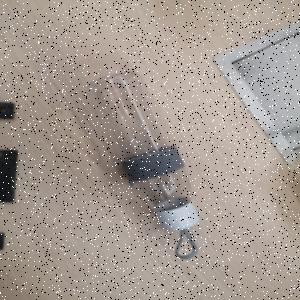Plastic-bottle: (86, 73, 202, 233)
